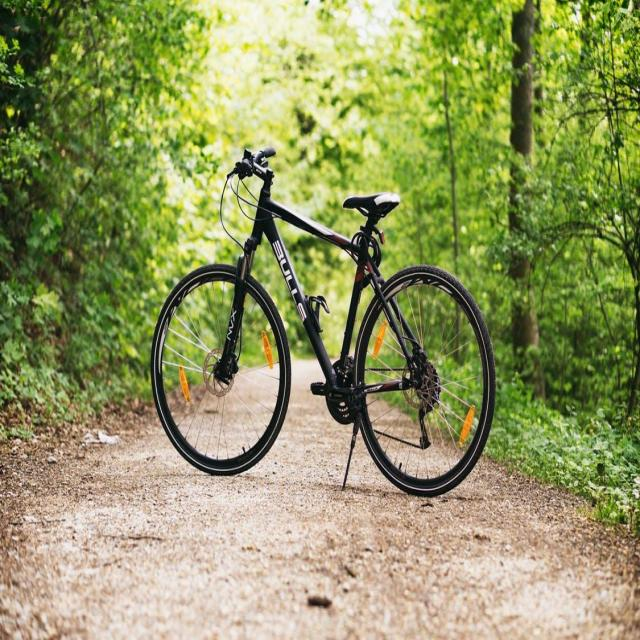bicycle: (146, 140, 508, 528)
